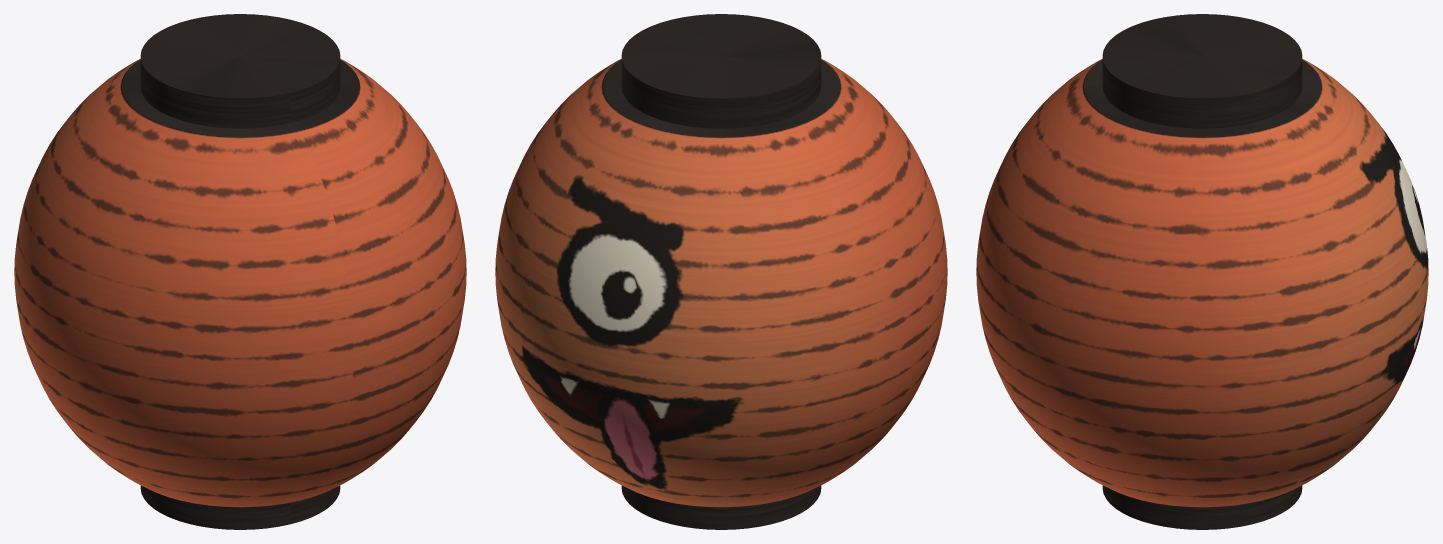
File: lantern.obj
3 renders of one model, left to right at view 1: azimuth 30°, elevation 25°; view 2: azimuth 150°, elevation 25°; view 3: azimuth 270°, elevation 25°, orthographic.
Visible parts, largest first — view 1: lantern; view 2: lantern; view 3: lantern.
Boxes of the visible parts, <box> form: lantern: <box>14,14,466,529</box>; lantern: <box>495,14,947,529</box>; lantern: <box>976,14,1428,529</box>.
Bounding box in the file's own units: 1.9 × 2 × 1.9.
1 material, 1 textured.
